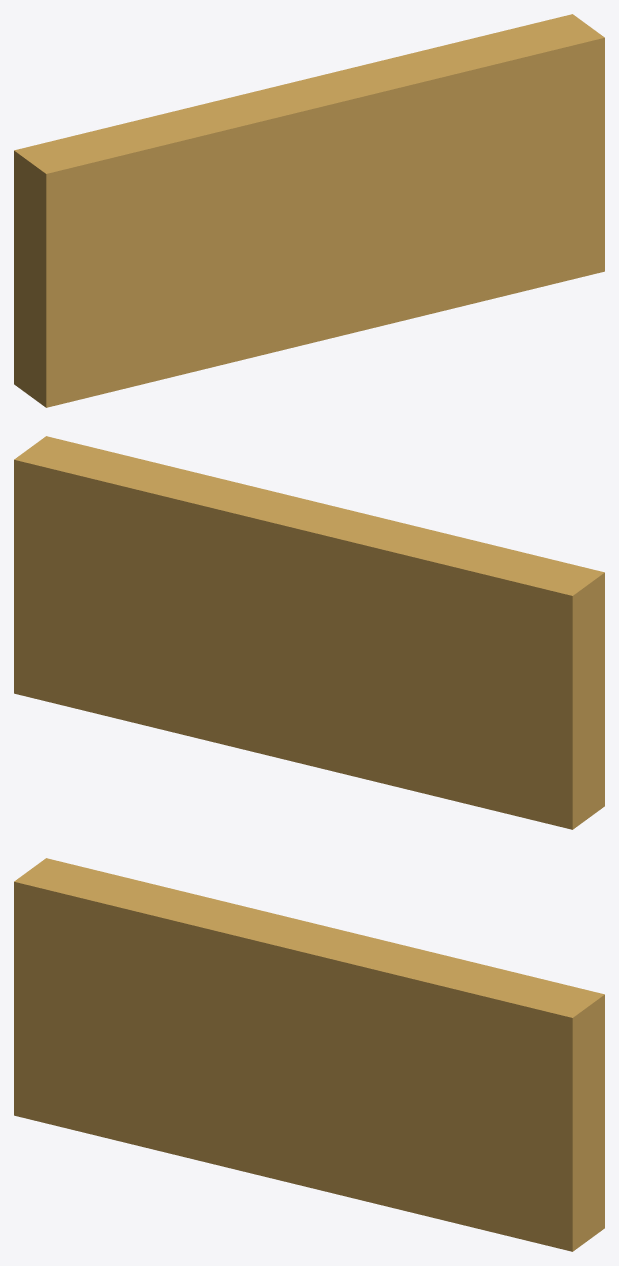
The model's file is paredA.obj.
3 renders of one model, top to bottom at view 1: azimuth 30°, elevation 25°; view 2: azimuth 150°, elevation 25°; view 3: azimuth 330°, elevation 25°, orthographic.
Parts seen in each view (by area): view 1: Wall.005; view 2: Wall.005; view 3: Wall.005.
Boxes of the visible parts, x1=… form: Wall.005: x1=14, y1=14, x2=604, y2=407; Wall.005: x1=14, y1=436, x2=604, y2=829; Wall.005: x1=14, y1=858, x2=604, y2=1251.
Size of the model in its own units: 10 by 4 by 1.
6 materials, 6 textured.
